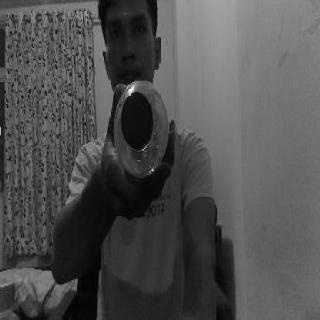plastic_bottles: (113, 74, 169, 179)
